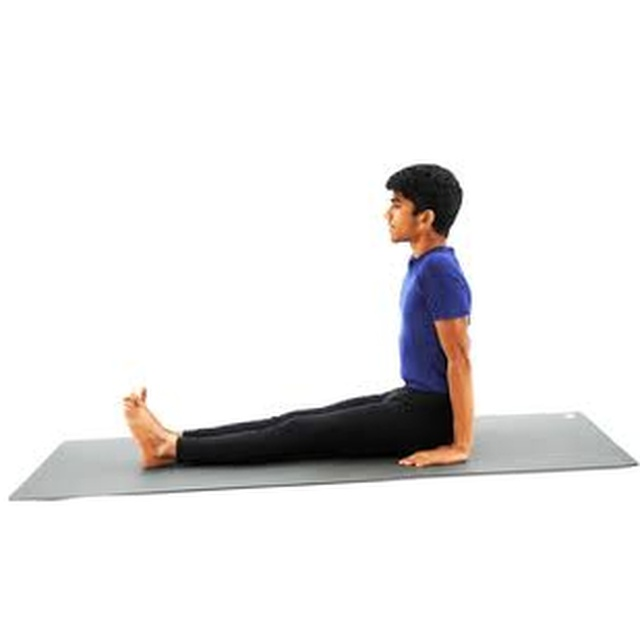Staff_Pose: (121, 162, 473, 472)
